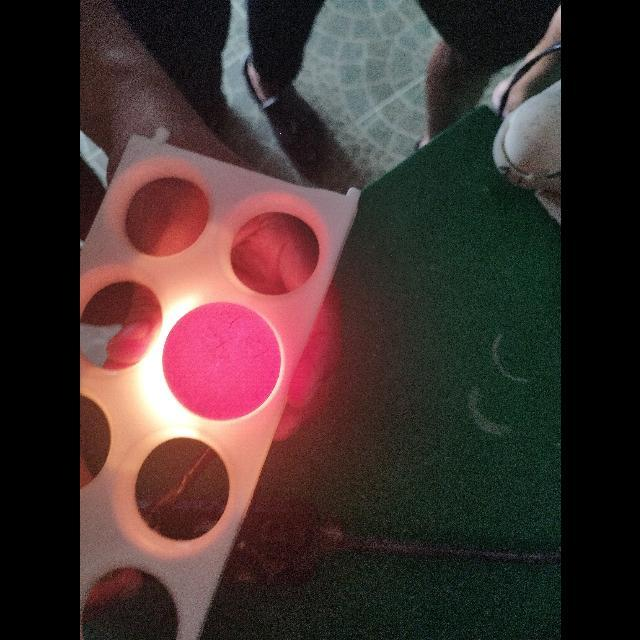Infertile: (166, 307, 276, 417)
